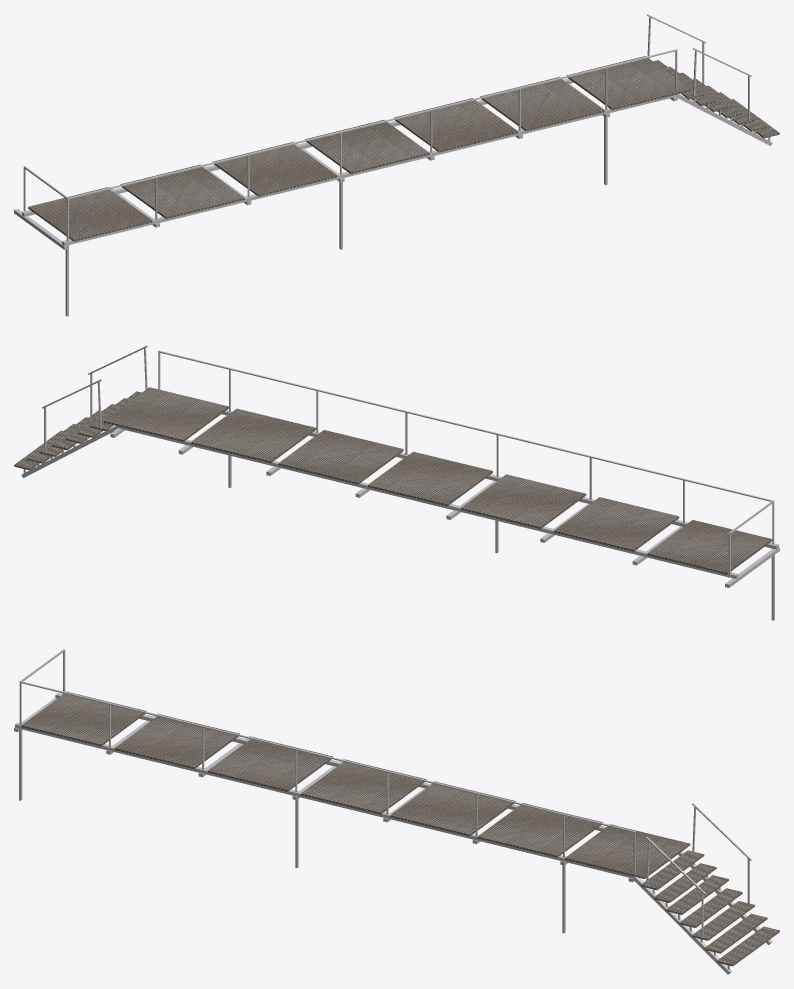
File: stairs_wall01.fbx
The picture shows the model from 3 angles, top to bottom: view 1: azimuth 30°, elevation 25°; view 2: azimuth 150°, elevation 25°; view 3: azimuth 330°, elevation 25°; orthographic projection.
Parts seen in each view (by area): view 1: Mesh Object; view 2: Mesh Object; view 3: Mesh Object.
Part boxes in pixels (box(x1,y1,x2,y2)): Mesh Object: box(14, 14, 779, 316); Mesh Object: box(14, 345, 779, 620); Mesh Object: box(14, 649, 779, 974).
Bounding box in the file's own units: 12.07 × 1.92 × 1.52.
